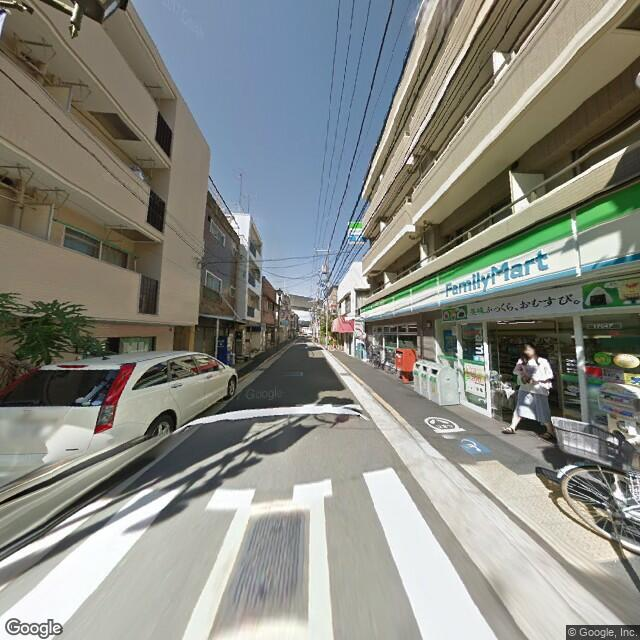family_mart: (359, 179, 638, 324), (347, 217, 364, 248)
